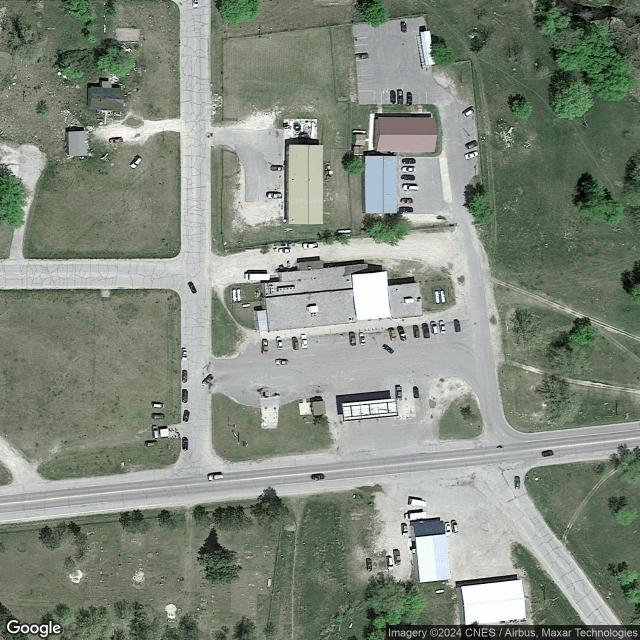Propane: (434, 289, 441, 305), (439, 289, 446, 304), (232, 288, 237, 303), (236, 287, 241, 302), (337, 229, 352, 234), (435, 588, 445, 595), (242, 303, 250, 308)
